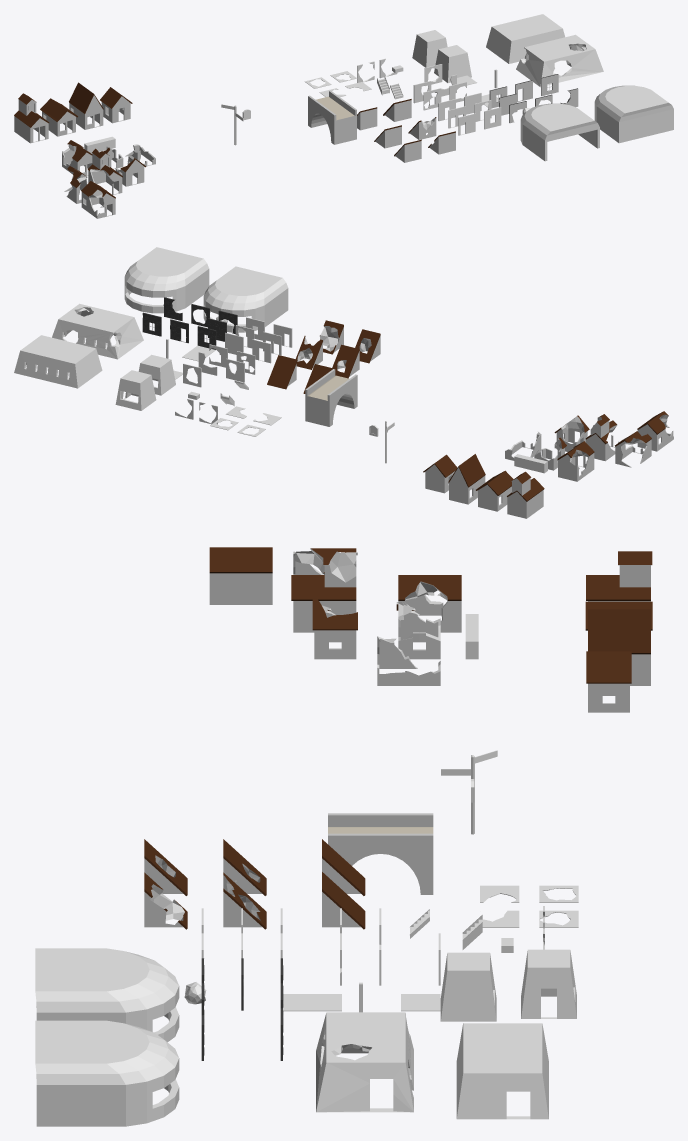
The model's file is Village.fbx.
3 views of the same model, one above another, from view 1: azimuth 30°, elevation 25°; view 2: azimuth 150°, elevation 25°; view 3: azimuth 270°, elevation 25° (orthographic). The views are drawn at different scales.
Parts seen in each view (by area): view 1: Pillbox, Pillbox 2, Bunker Destroyed, Bunker, Stone Bridge, Church, House 2, Turret House 2, Turret House 1, Church.001, House 1, Ruin 1 (+11 smaller); view 2: Pillbox, Pillbox 2, Bunker, Bunker Destroyed, Stone Bridge, Church, House 2, Turret House 1, Ruin 2, House 1, Church.001, Turret House 2 (+11 smaller); view 3: Pillbox, Pillbox 2, Bunker Destroyed, Bunker, Stone Bridge, Ruin 1, Turret House 2, Church.001, House 2, Turret House 1, Ruin 2, House 3 (+12 smaller).
Part boxes in pixels (x1,y1,x2,y2): Pillbox: (594,85,673,143); Pillbox 2: (520,103,599,161); Bunker Destroyed: (516,34,603,87); Bunker: (486,14,564,63); Stone Bridge: (308,90,356,144); Church: (14,93,49,143); House 2: (69,82,103,129); Turret House 2: (434,45,471,82); Turret House 1: (412,30,447,67); Church.001: (88,148,122,194); House 1: (40,98,77,136); Ruin 1: (81,181,115,218); Pillbox: (124,247,209,313); Pillbox 2: (203,266,288,332); Bunker: (14,335,102,388); Bunker Destroyed: (52,303,143,359); Stone Bridge: (305,369,357,426); Church: (507,471,544,518); House 2: (448,454,485,504); Turret House 1: (115,370,156,410); Ruin 2: (557,441,594,481); House 1: (476,470,513,511); Church.001: (585,414,619,461); Turret House 2: (138,354,175,395); Pillbox: (35,1020,179,1126); Pillbox 2: (35,948,179,1042); Bunker Destroyed: (316,1012,413,1112); Bunker: (456,1023,548,1119); Stone Bridge: (328,813,433,894); Ruin 1: (209,547,272,604); Turret House 2: (440,952,496,1021); Church.001: (291,551,357,632); House 2: (588,609,650,685); Turret House 1: (521,949,576,1018); Ruin 2: (398,575,461,632); House 3: (586,651,631,712).
Size of what is drawn, in the model's own units: 9369 by 998 by 4691.
